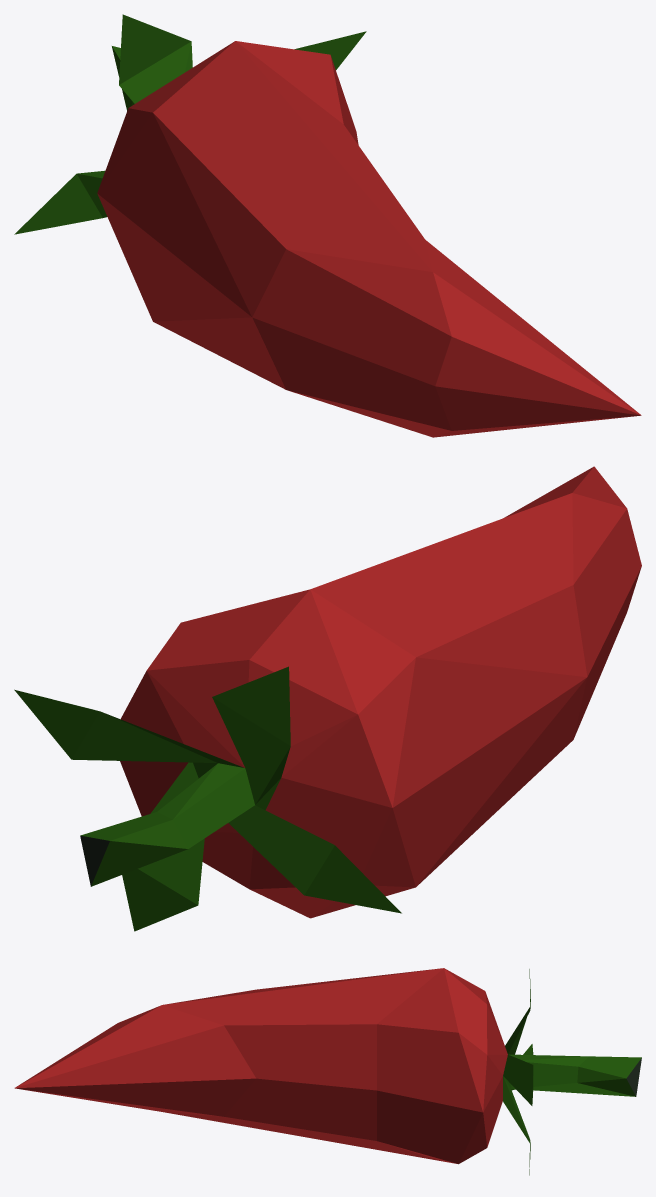
File: Pepper.fbx
3 views of the same model, one above another, from view 1: azimuth 30°, elevation 25°; view 2: azimuth 150°, elevation 25°; view 3: azimuth 270°, elevation 25° (orthographic). The views are drawn at different scales.
Parts seen in each view (by area): view 1: Pepper; view 2: Pepper; view 3: Pepper.
Boxes of the visible parts, x1=… form: Pepper: x1=14, y1=14, x2=641, y2=437; Pepper: x1=14, y1=466, x2=641, y2=931; Pepper: x1=14, y1=968, x2=641, y2=1175.
Bounding box in the file's own units: 6.12 × 4.96 × 14.58.
